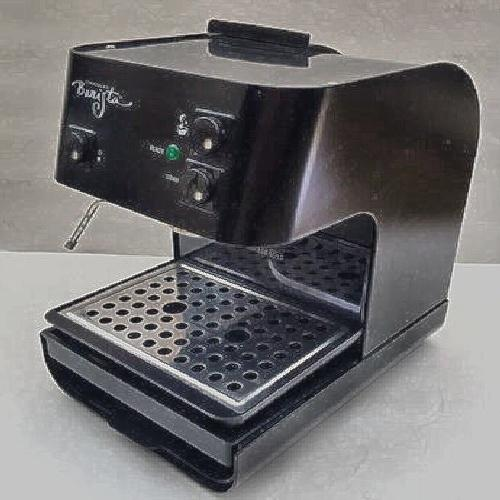coffee_maker: (67, 26, 456, 462)
